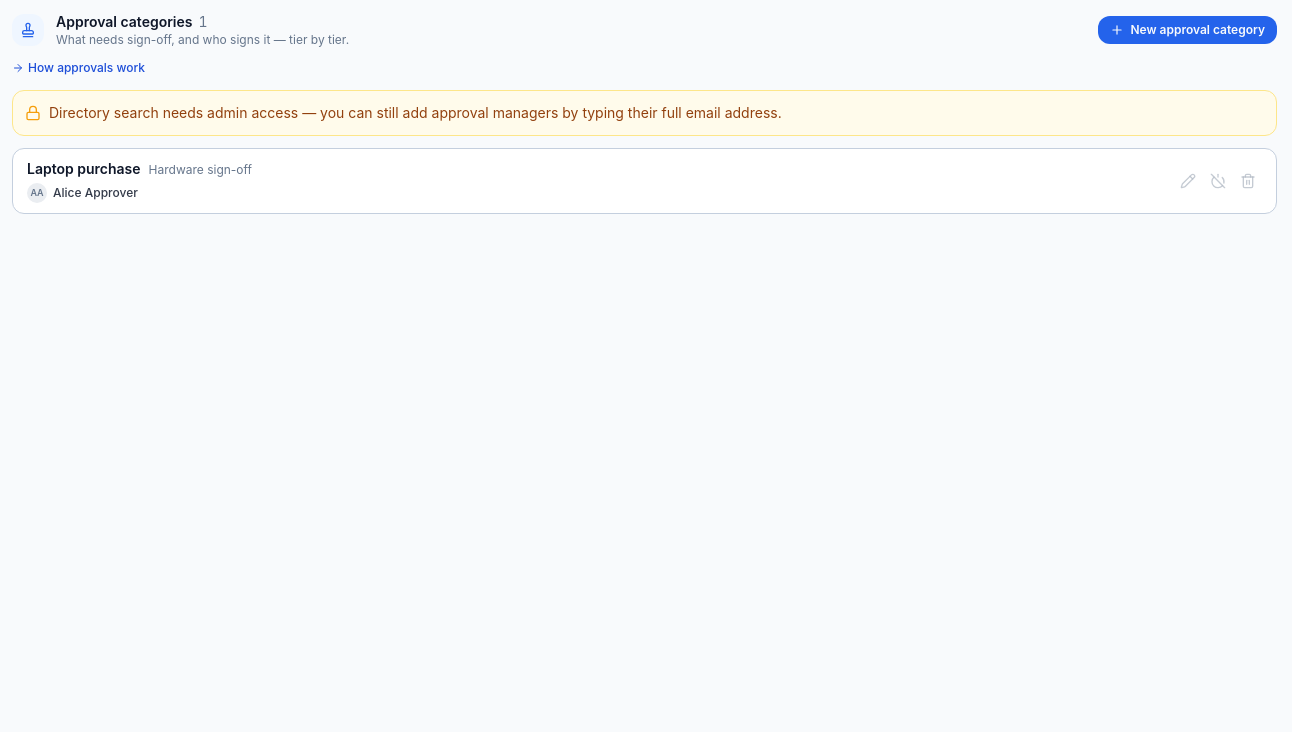
ApprovalCategoriesPanel as a reviewer (directory 403) › picker is greyed with a lock but stays usable: member search + free-text email add
Click the button "New approval category". click: click(1188, 30)
box: [1098,16,1277,44]
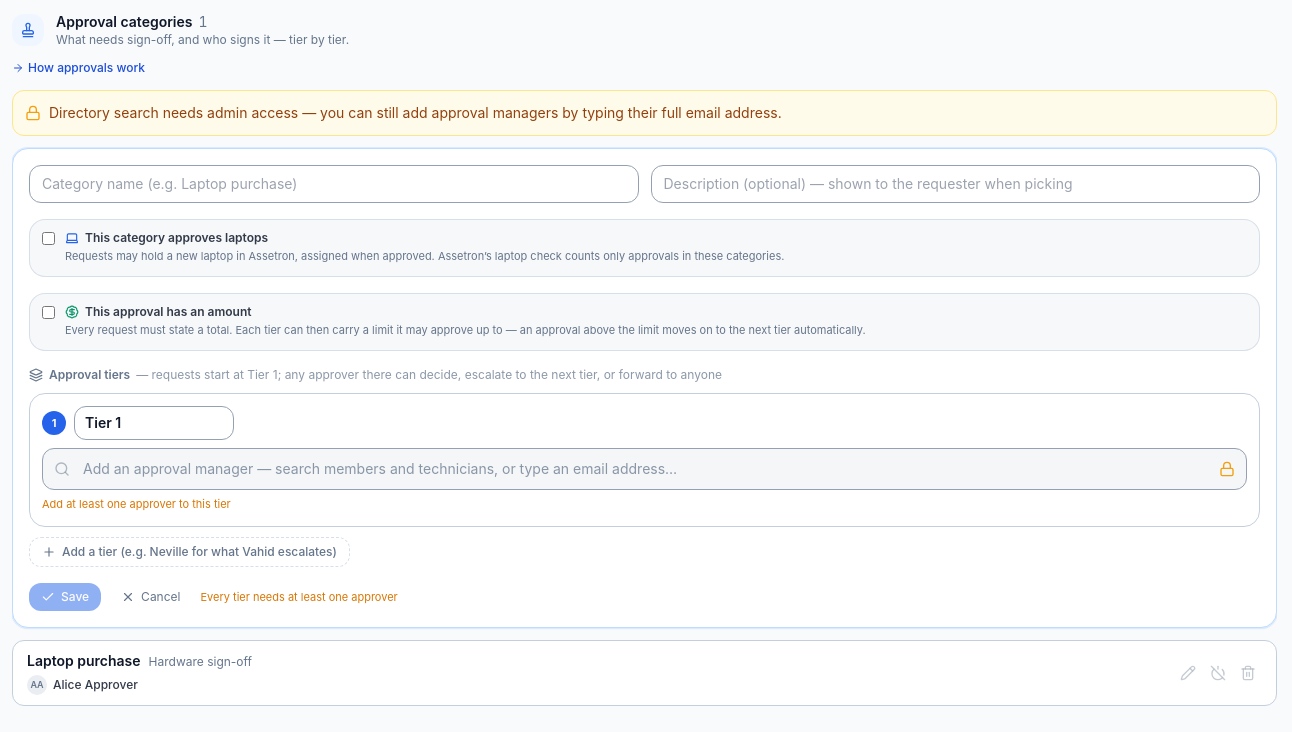
# Lock affordance with an explanatory popover.
Click the button named "Directory search unavailable". click: click(1227, 469)
box: [1215,457,1239,481]
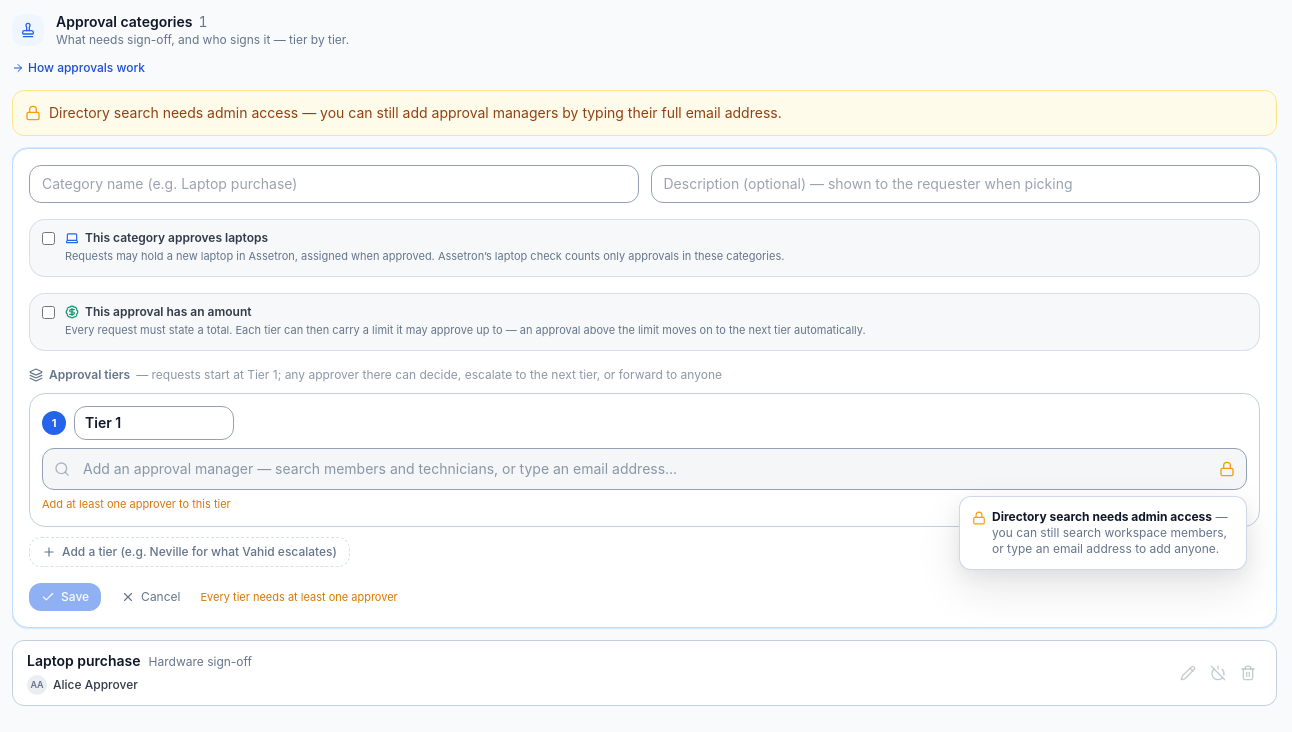
expect the tooltip shows "needs admin access": met, box [992,509,1212,524]
# Member search still works while locked…
Replace the text in the field with placeholder "type an email address" with "bob". click: (644, 469)
box: [42,448,1247,490]
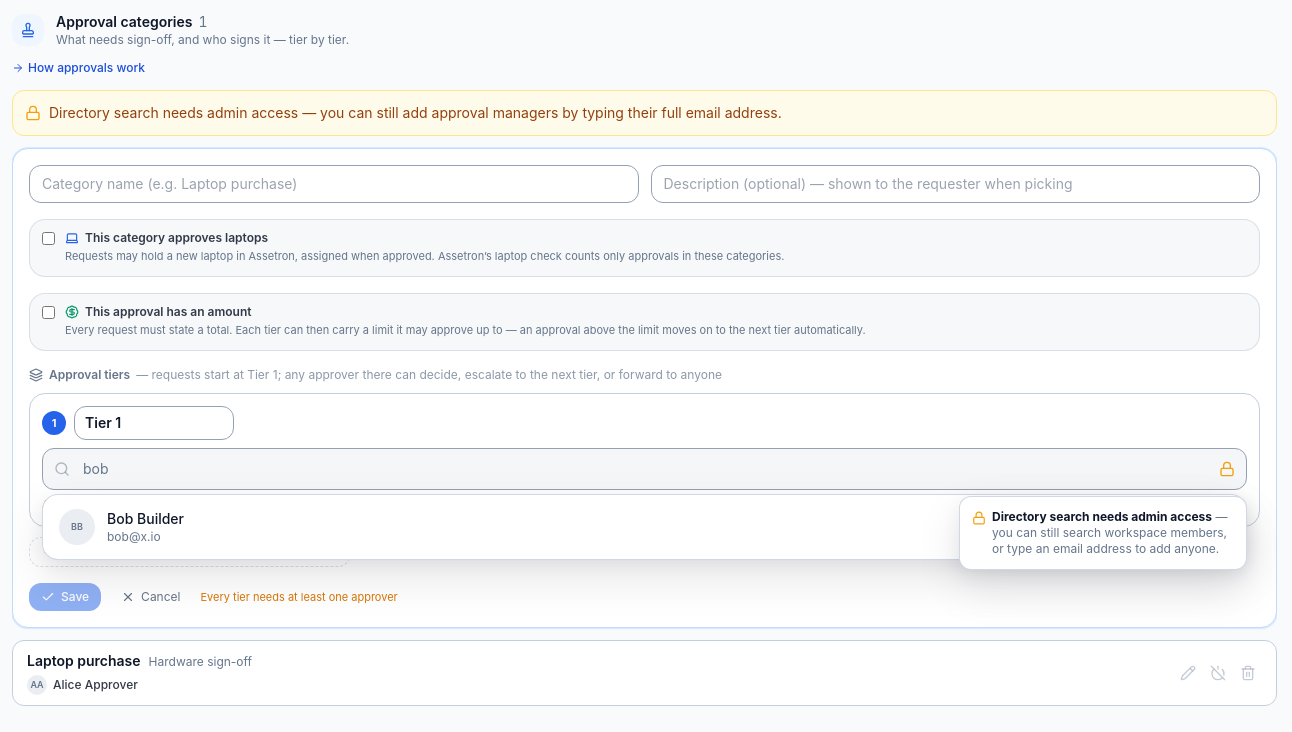
Click the text "Bob Builder". click: click(146, 518)
box: [107,510,184,527]
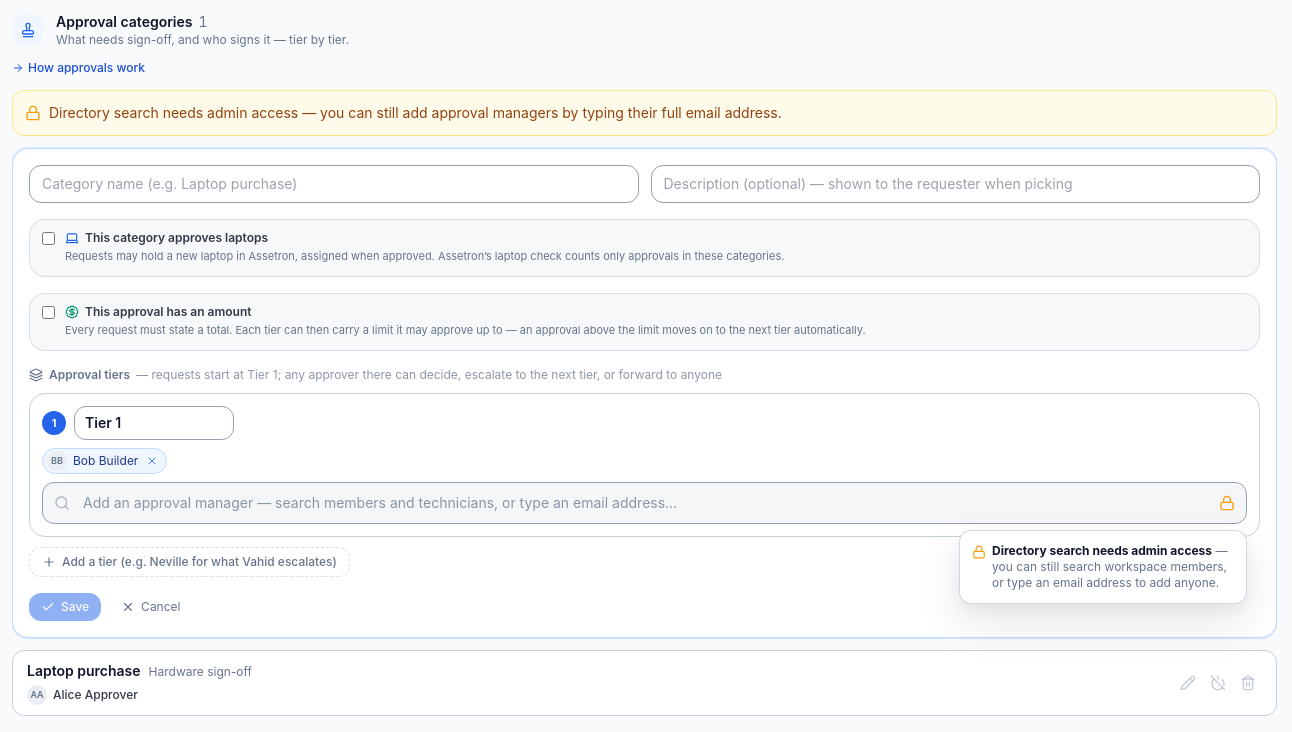
expect the button named "Remove bob@x.io" is shown: met, box [144,453,160,469]
# …and a fully-typed address gets the free-text "Use this email" row.
Replace the text in the field with placeholder "type an email address" with "Outside.Manager@partner.io". click: (644, 503)
box: [42,482,1247,524]
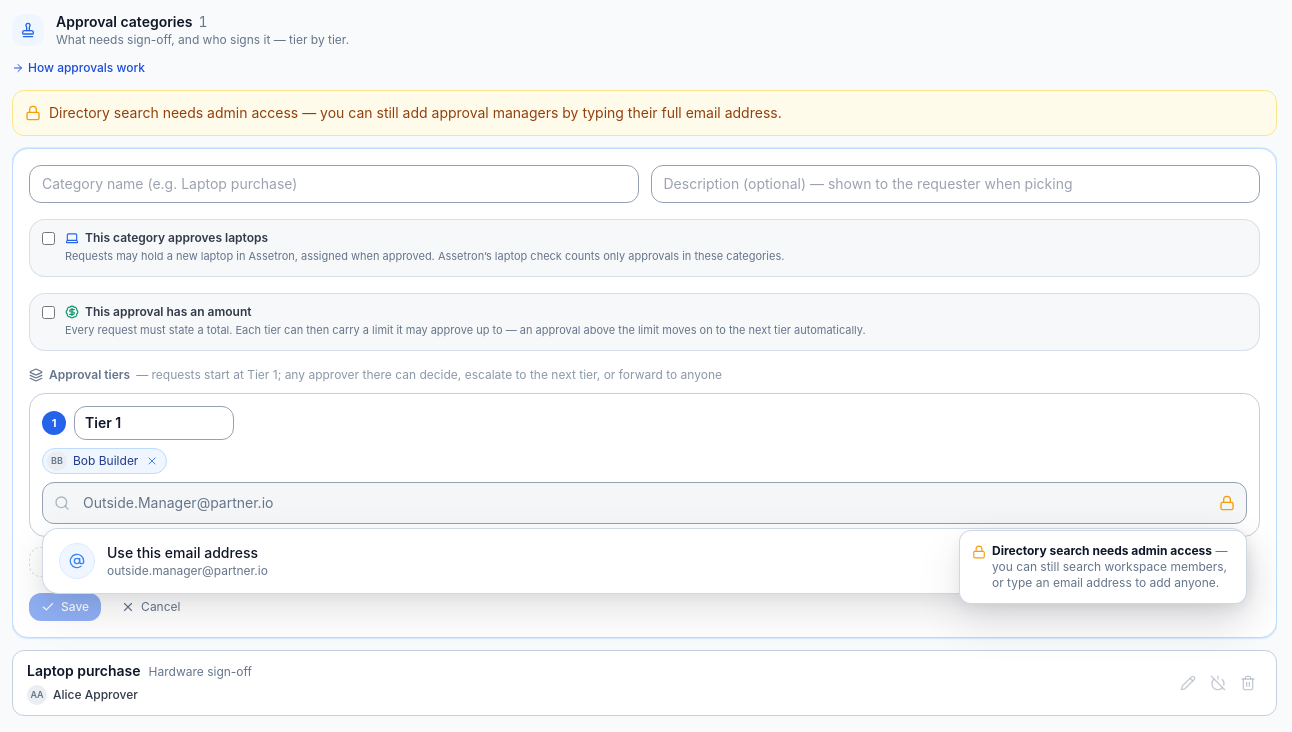
Click the text "Use this email address". click: click(182, 552)
box: [107,544,258,561]
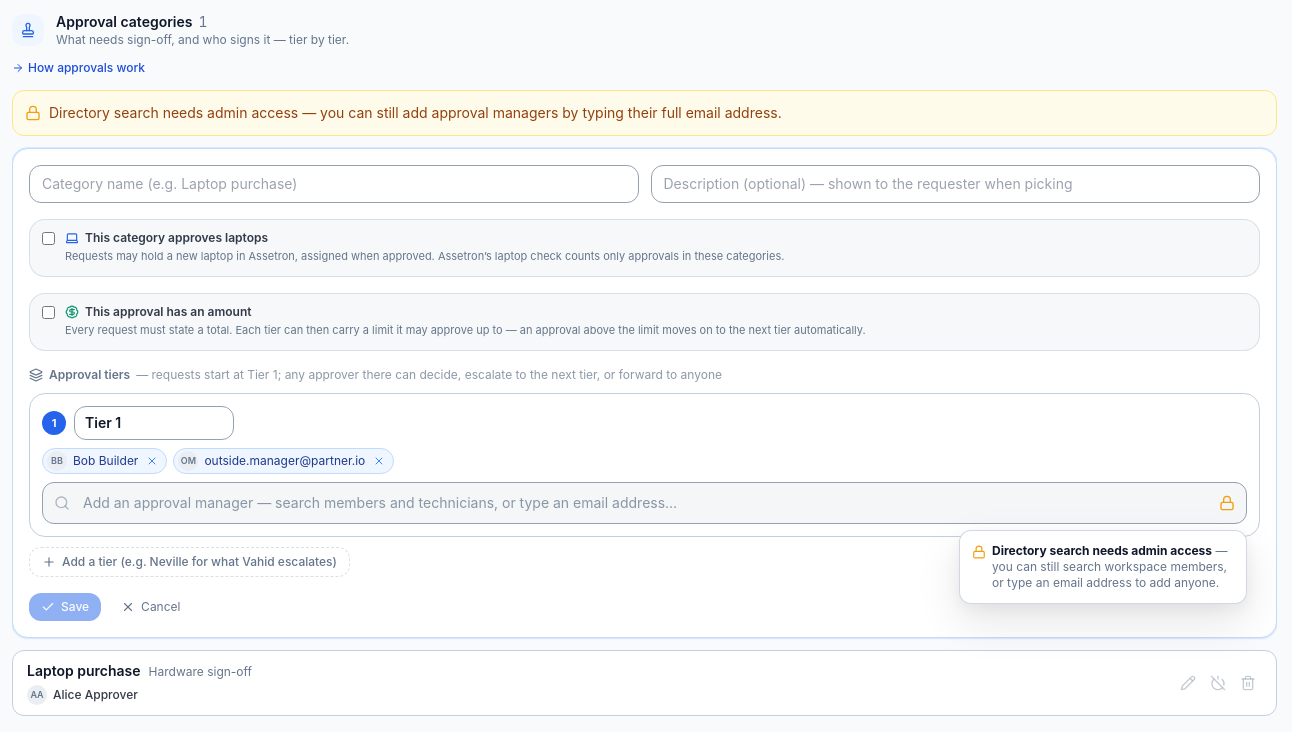
expect the button named "Remove outside.manager@partner.io" is shown: met, box [371,453,387,469]
